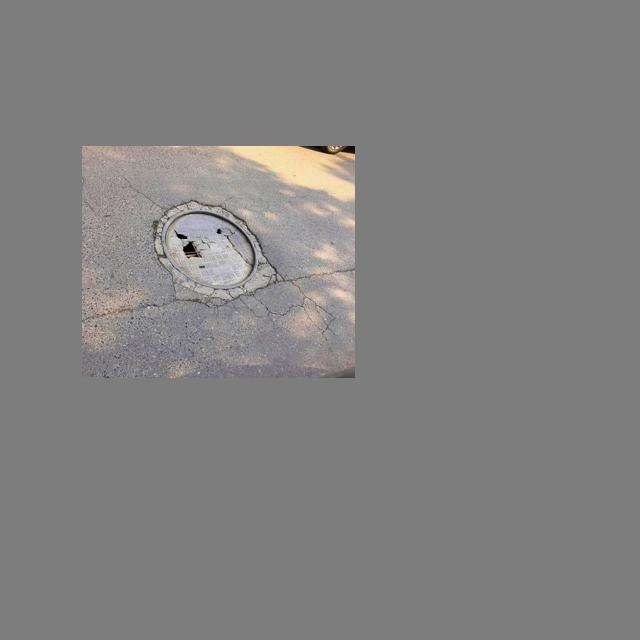broke: (152, 198, 276, 304)
